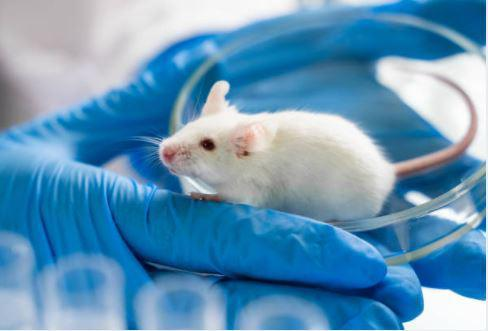rat: (160, 71, 478, 219)
